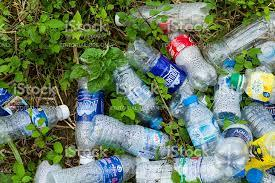Plastic bottle: (124, 33, 194, 102), (0, 88, 71, 147), (90, 112, 173, 154), (166, 28, 216, 89), (134, 151, 225, 181), (46, 158, 144, 183), (111, 5, 222, 27), (219, 115, 257, 173), (111, 61, 154, 111), (75, 78, 101, 159), (181, 95, 220, 147), (232, 57, 275, 102)
